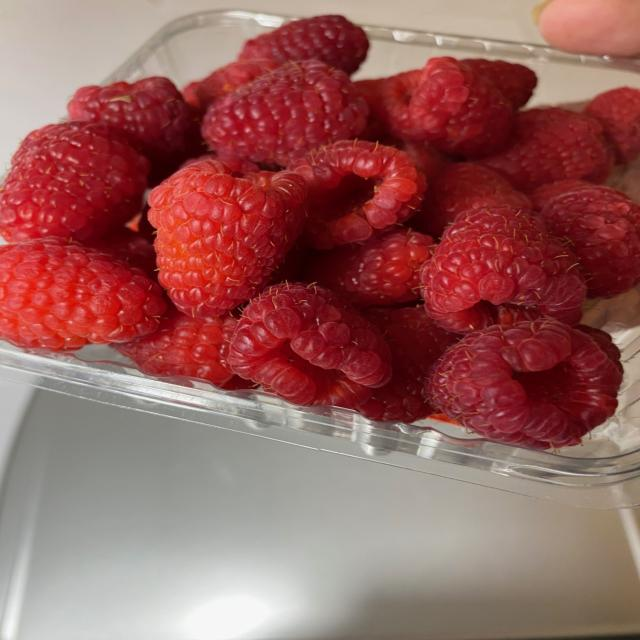Raspberry: (8, 70, 626, 326)
